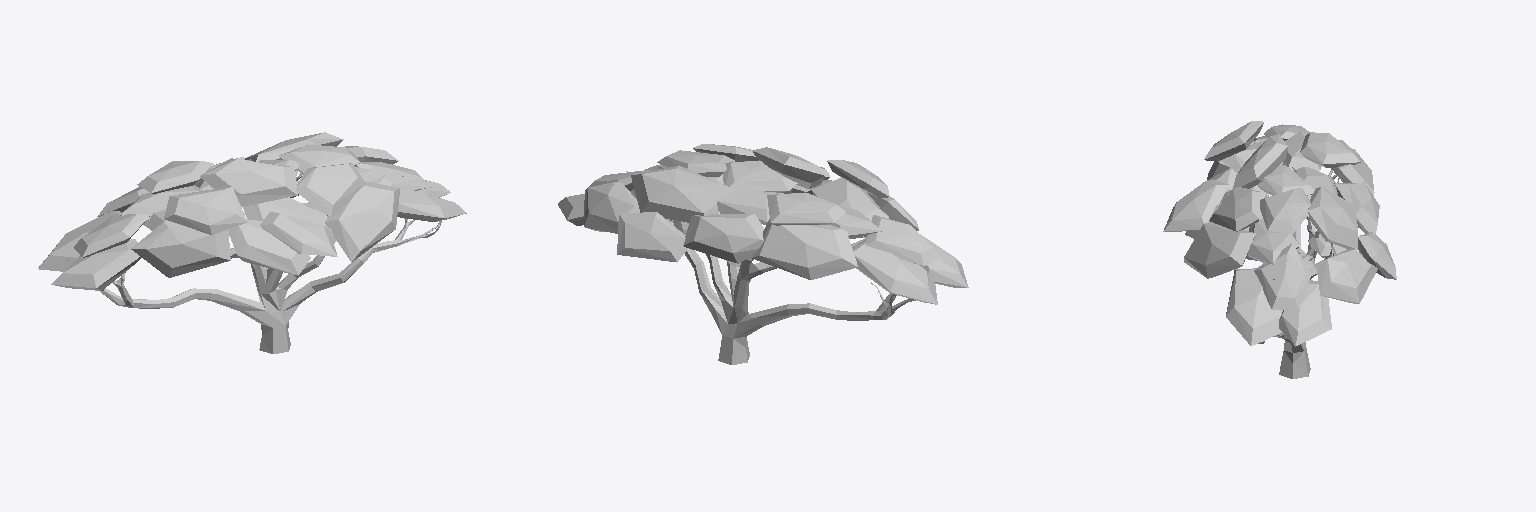
Rendered from Arbol6.obj.
3 renders of one model, left to right at view 1: azimuth 30°, elevation 25°; view 2: azimuth 150°, elevation 25°; view 3: azimuth 270°, elevation 25°, orthographic.
Parts seen in each view (by area): view 1: Tree_Type0_04_Model_Circle.013; view 2: Tree_Type0_04_Model_Circle.013; view 3: Tree_Type0_04_Model_Circle.013.
Boxes of the visible parts, x1,y1,x2,y2 form: Tree_Type0_04_Model_Circle.013: [38, 132, 466, 353]; Tree_Type0_04_Model_Circle.013: [558, 144, 968, 364]; Tree_Type0_04_Model_Circle.013: [1163, 121, 1396, 378].
Size of the model in its own units: 7.72 by 3.75 by 3.85.